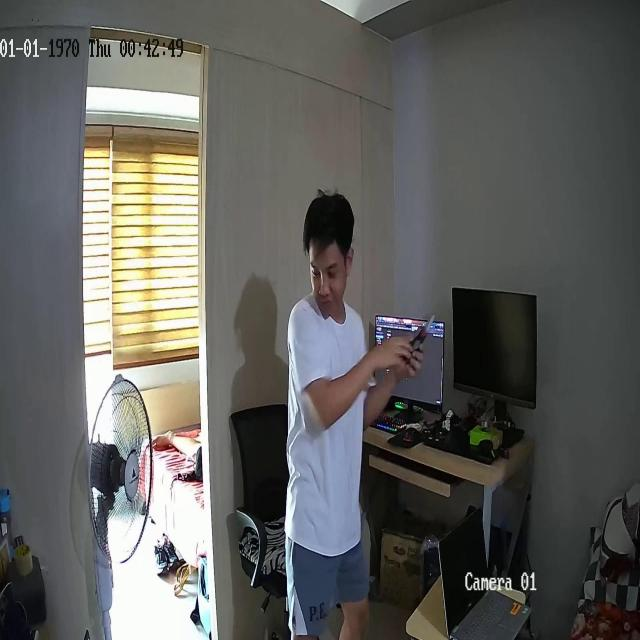scissor: (409, 313, 434, 351)
